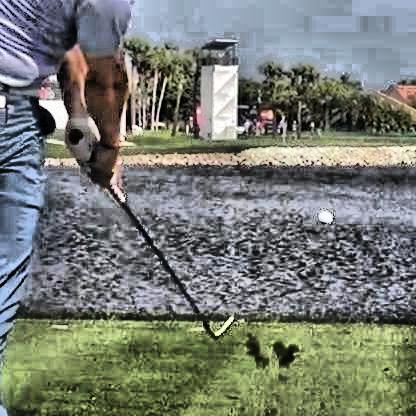golfball: (314, 206, 329, 222)
